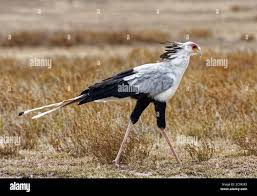Walking: (14, 37, 228, 172)
